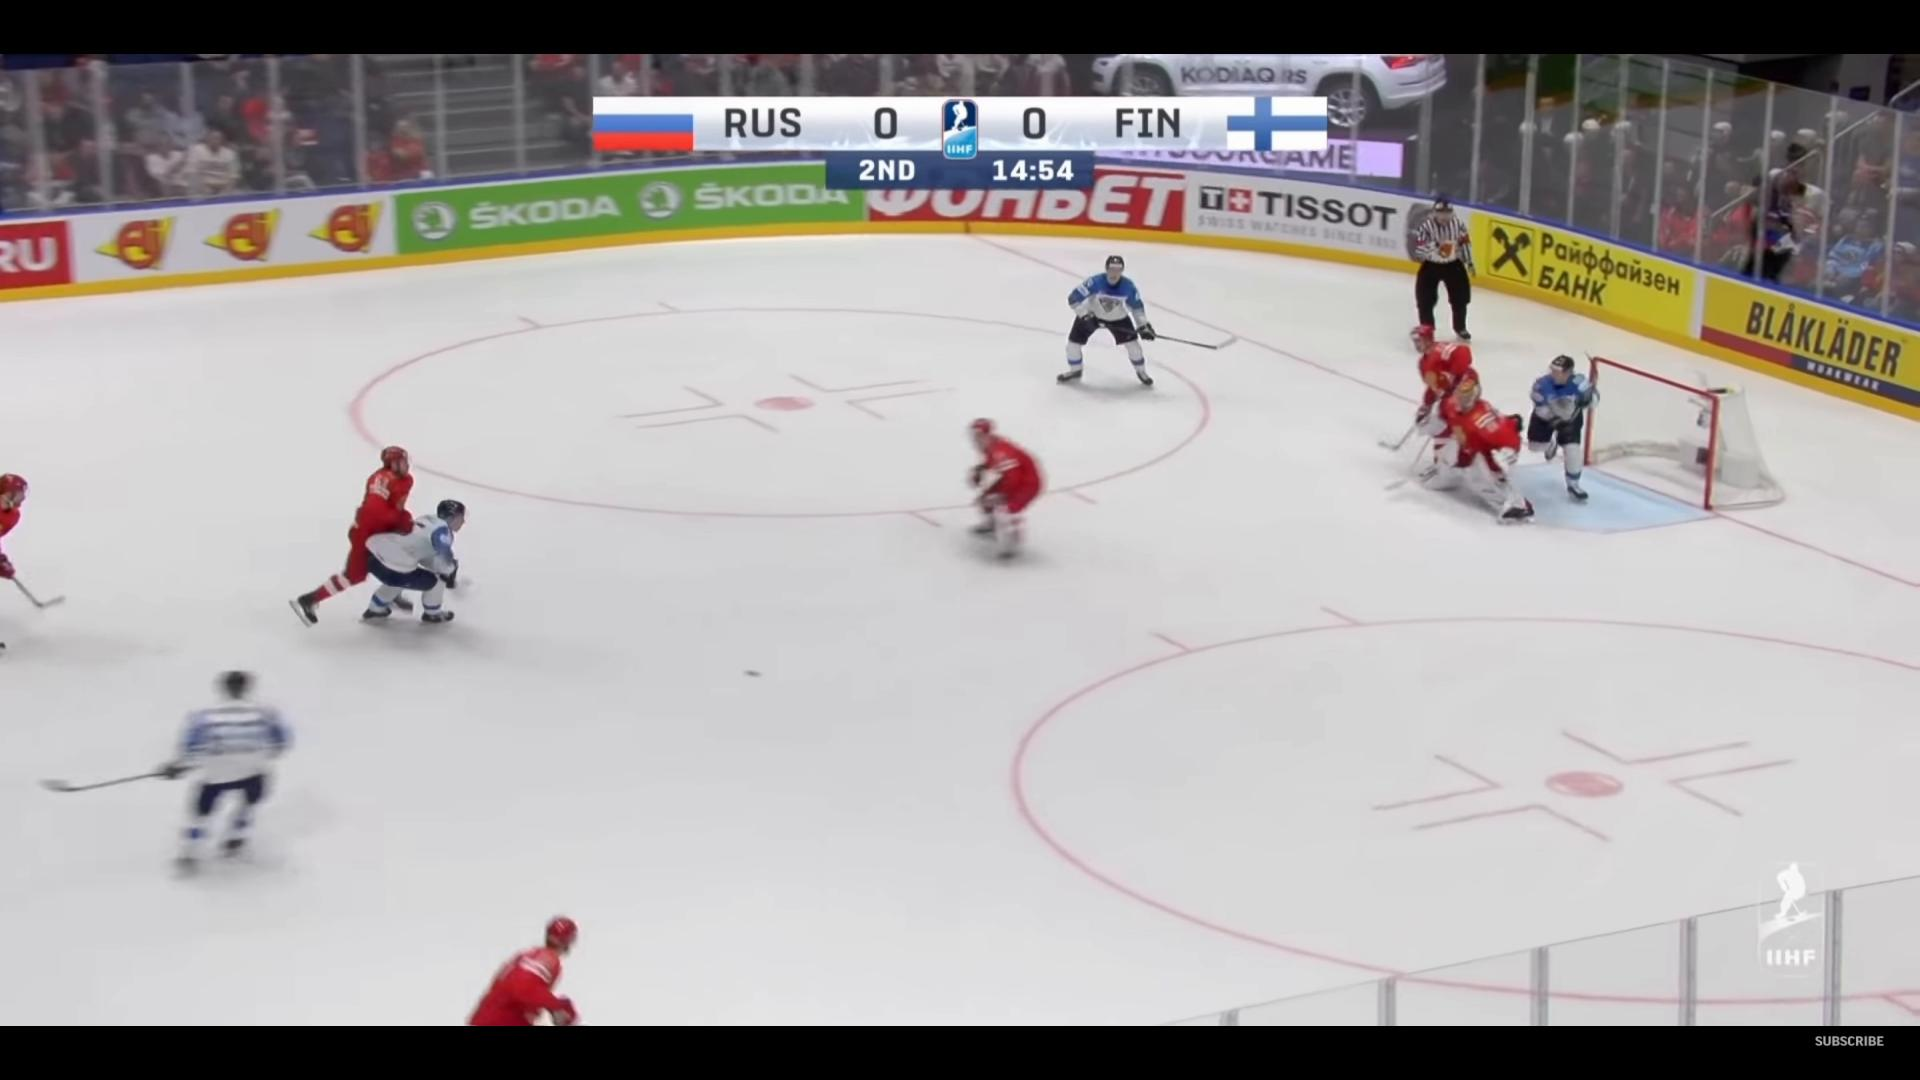puck: (742, 670, 761, 676)
